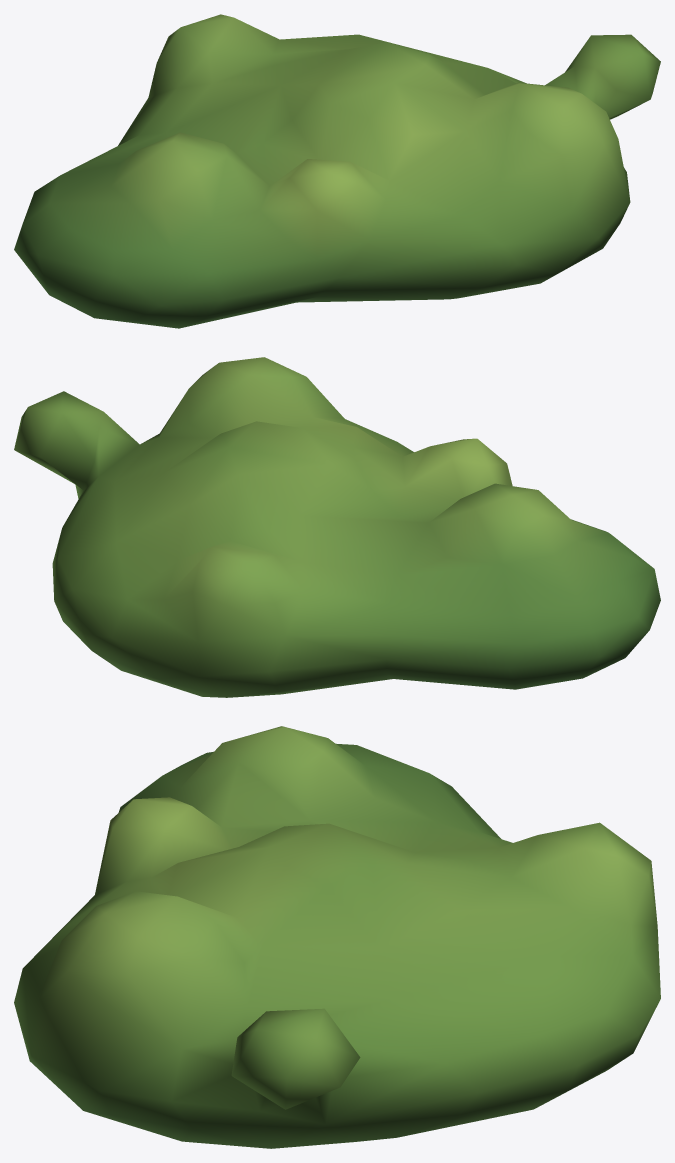
Rendered from env_sky_moss_b.glb.
The picture shows the model from 3 angles, top to bottom: view 1: azimuth 30°, elevation 25°; view 2: azimuth 150°, elevation 25°; view 3: azimuth 270°, elevation 25°; orthographic projection. The views are drawn at different scales.
Visible parts, largest first — view 1: SM_sky_sky_vc_x0_z0.018; view 2: SM_sky_sky_vc_x0_z0.018; view 3: SM_sky_sky_vc_x0_z0.018.
Boxes of the visible parts, x1=… form: SM_sky_sky_vc_x0_z0.018: x1=14, y1=14, x2=660, y2=328; SM_sky_sky_vc_x0_z0.018: x1=14, y1=357, x2=660, y2=697; SM_sky_sky_vc_x0_z0.018: x1=14, y1=726, x2=660, y2=1148.
Size of the model in its own units: 0.8766 by 0.2636 by 0.6297.
